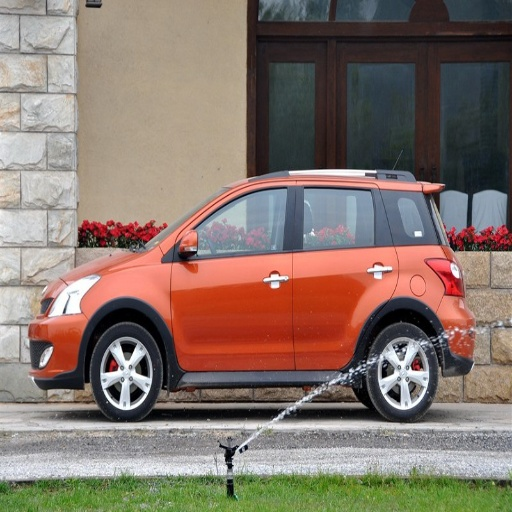back_bumper: (439, 297, 475, 371)
back_left_door: (295, 181, 396, 367)
front_left_door: (170, 181, 294, 369)
